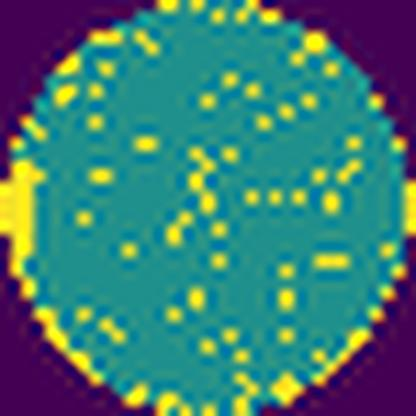Edge-Loc: (0, 163, 50, 304), (35, 310, 108, 382)
